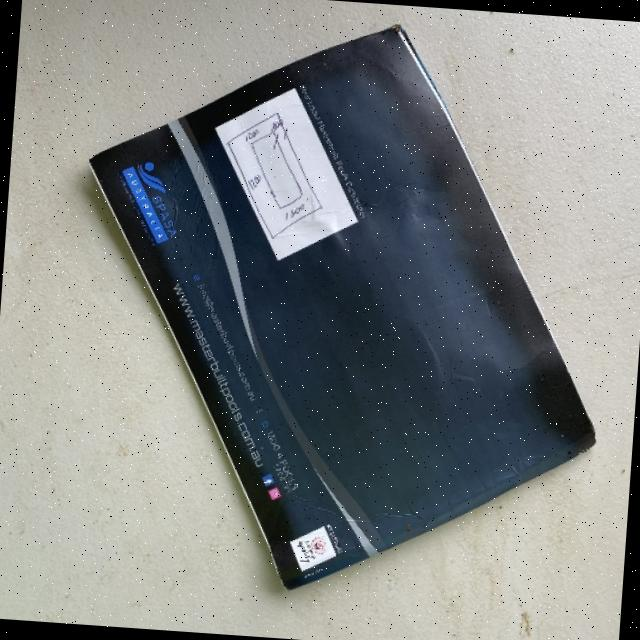paper: (59, 2, 624, 612), (205, 80, 366, 266)
